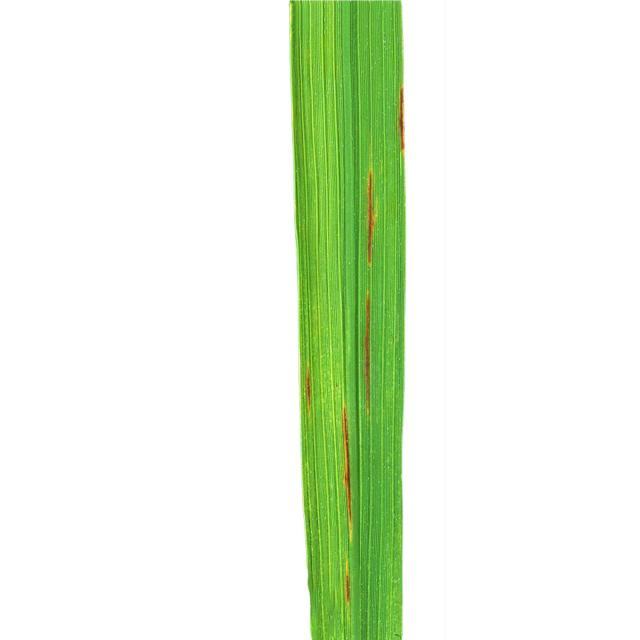Narrow brown: (222, 3, 472, 640)
